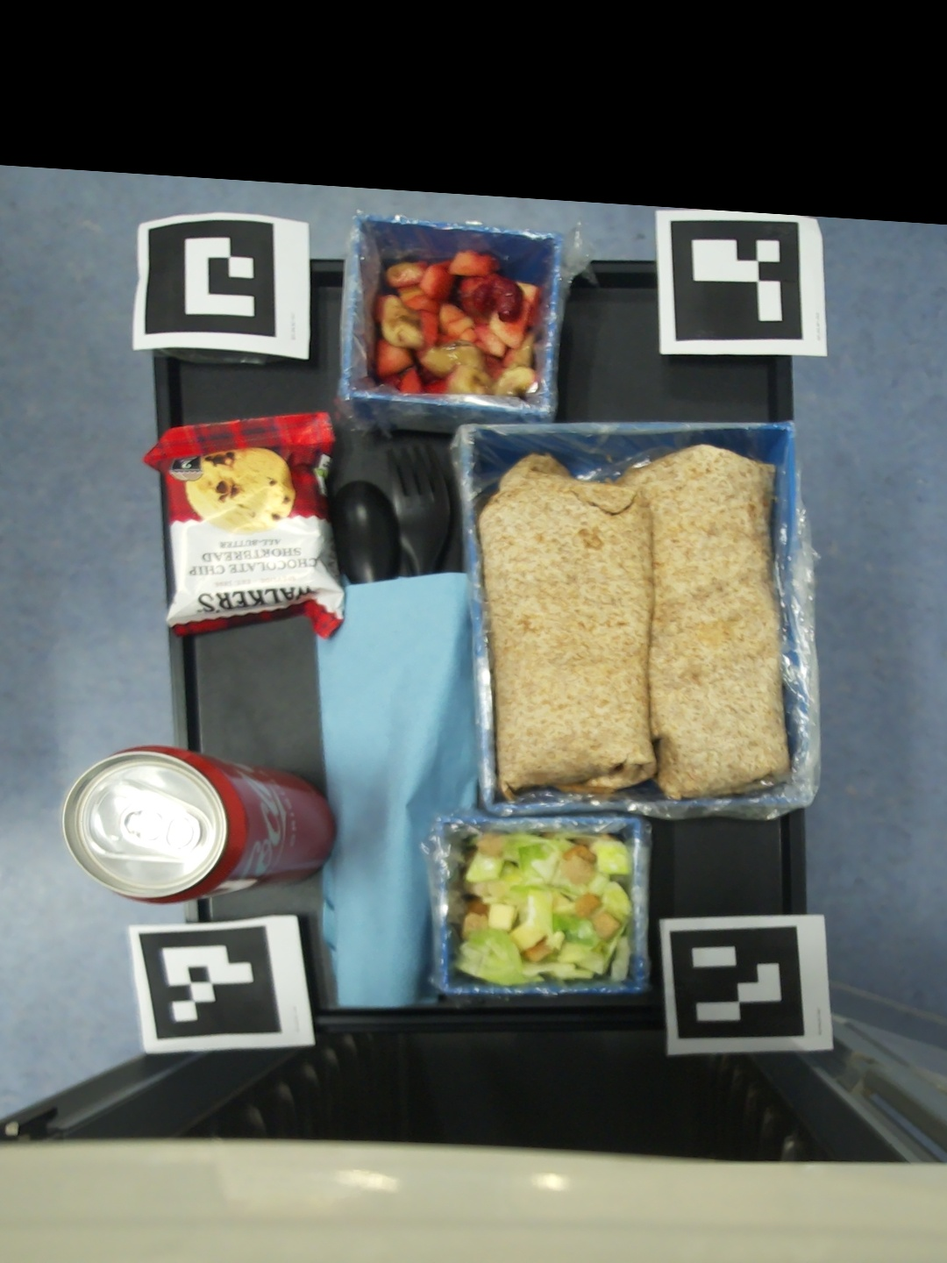cola: (62, 746, 336, 904)
cookie: (141, 411, 345, 639)
fruit_salad: (373, 251, 540, 396)
side_salad: (455, 830, 631, 985)
wrap_half_1: (478, 453, 655, 799)
wrap_half_2: (613, 444, 788, 802)
